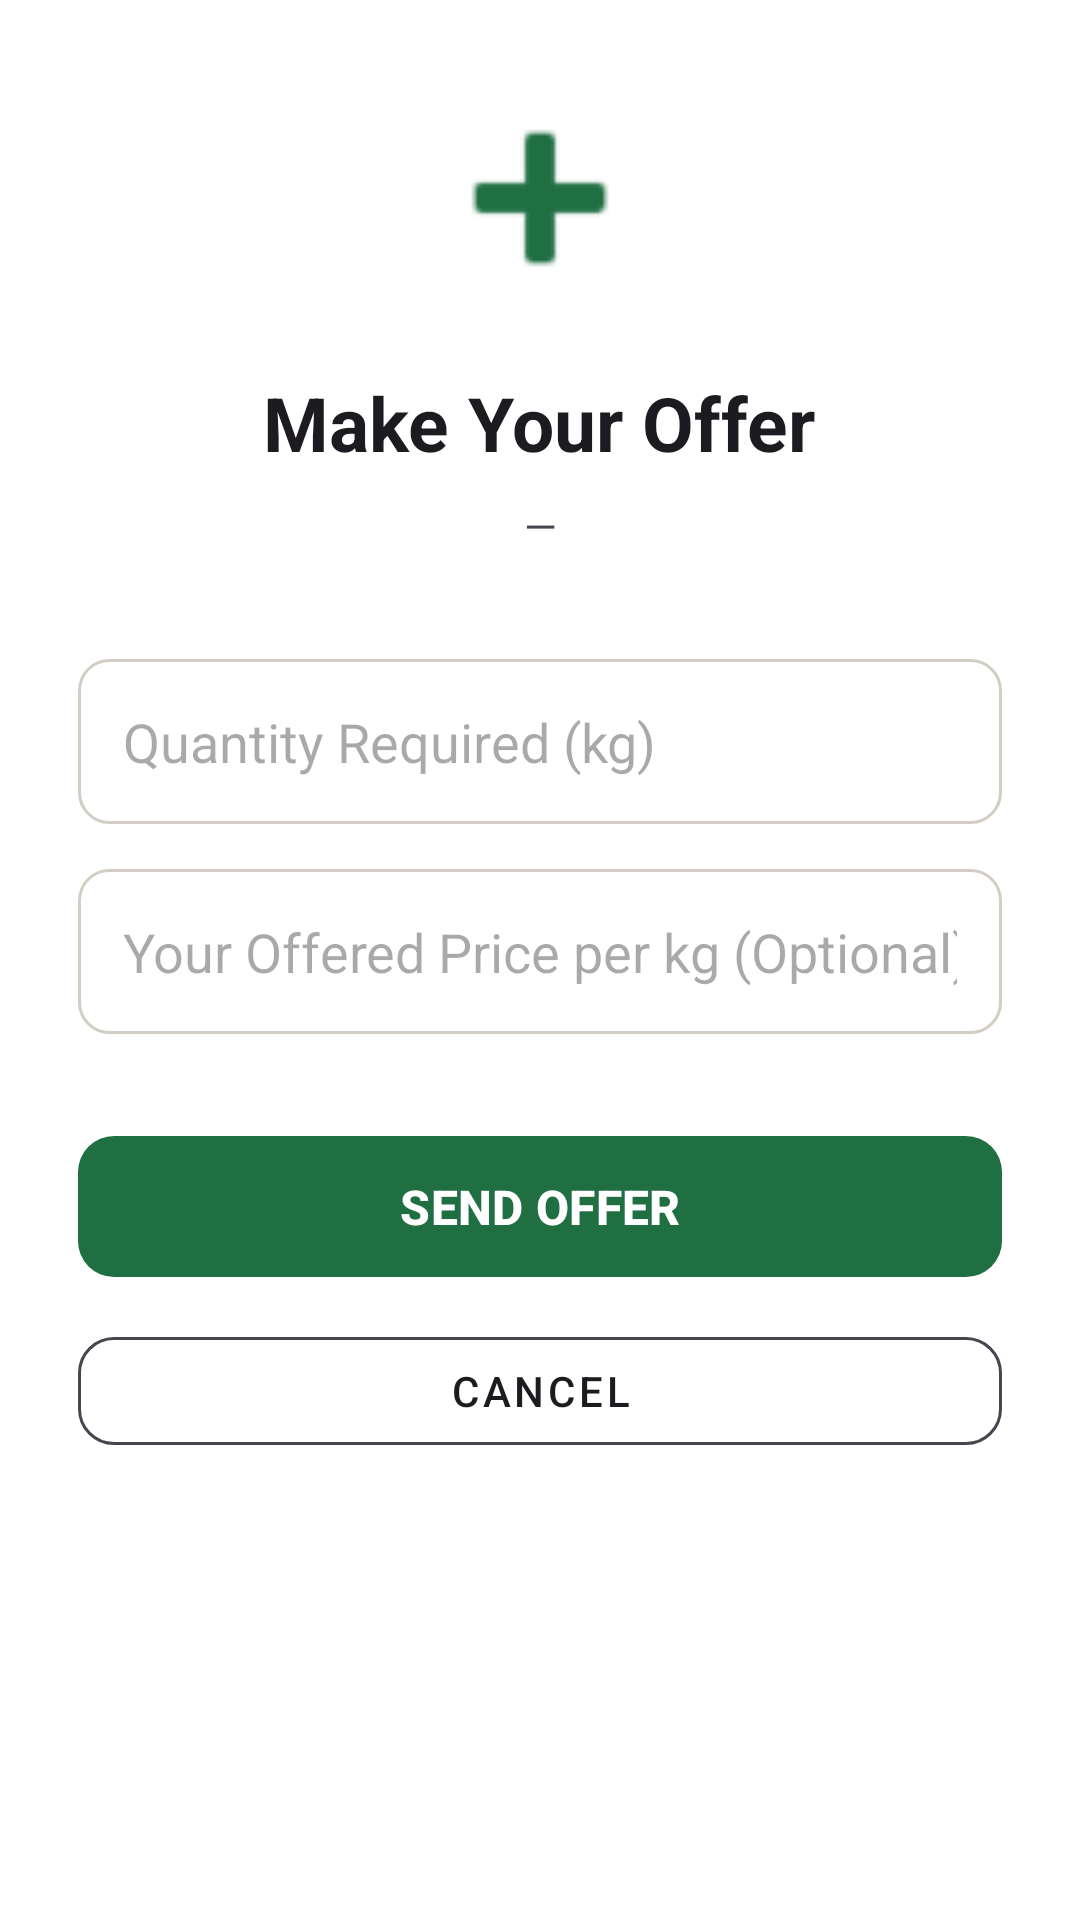

Locate icon controls on the screen. Image size 1080 × 1920, boxes as [x1, y1, x2, y2].
add: [472, 130, 608, 266]
